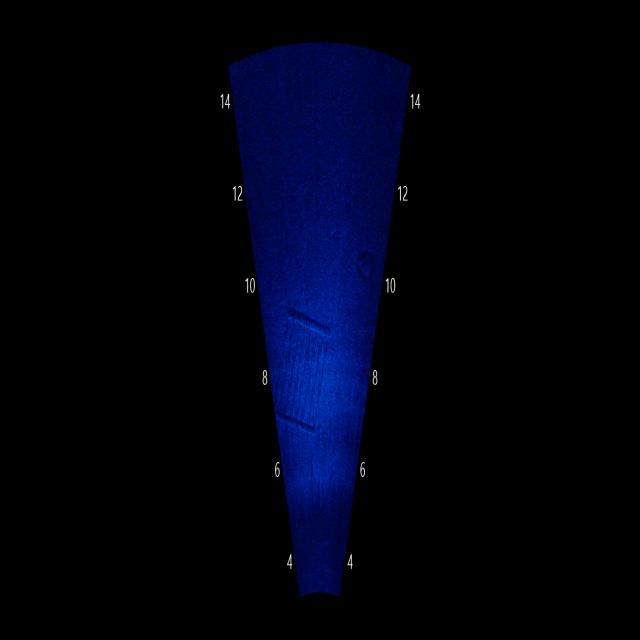square: (264, 297, 344, 453)
